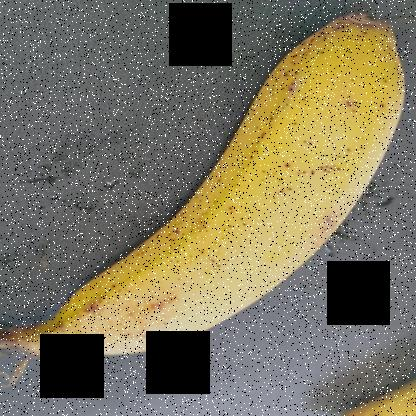ripe: (29, 0, 415, 355), (276, 370, 415, 415)
